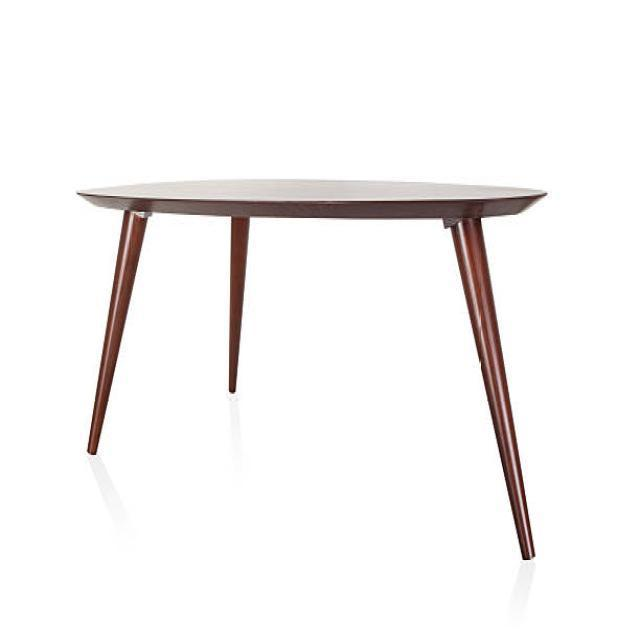table: (75, 177, 548, 562)
